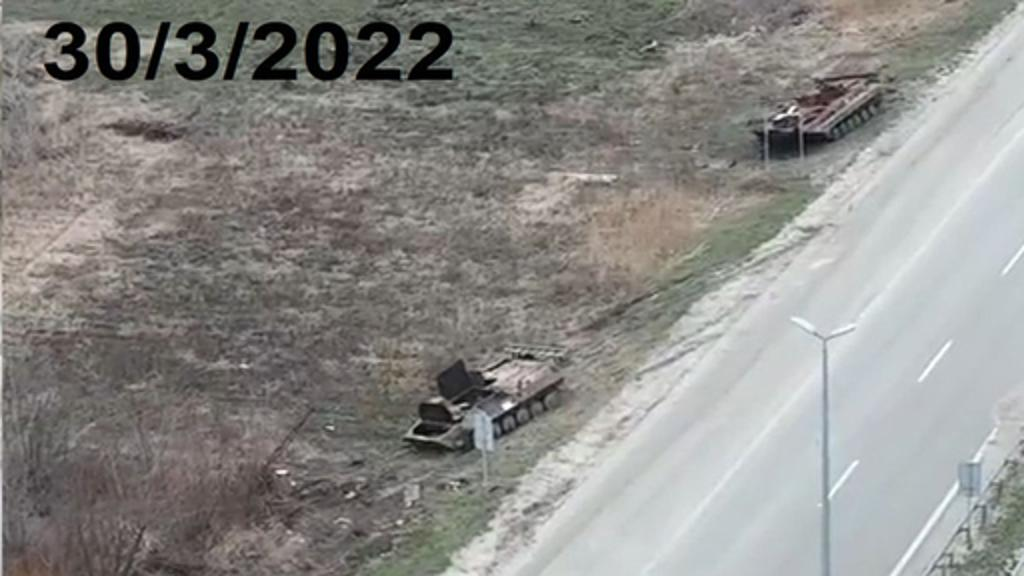APC-IFV: (406, 328, 584, 460), (752, 54, 894, 154)
